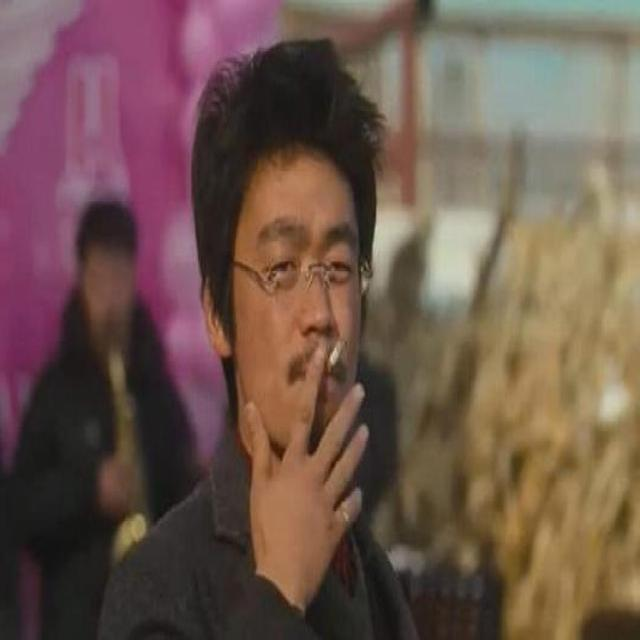smoking: (216, 80, 365, 608)
